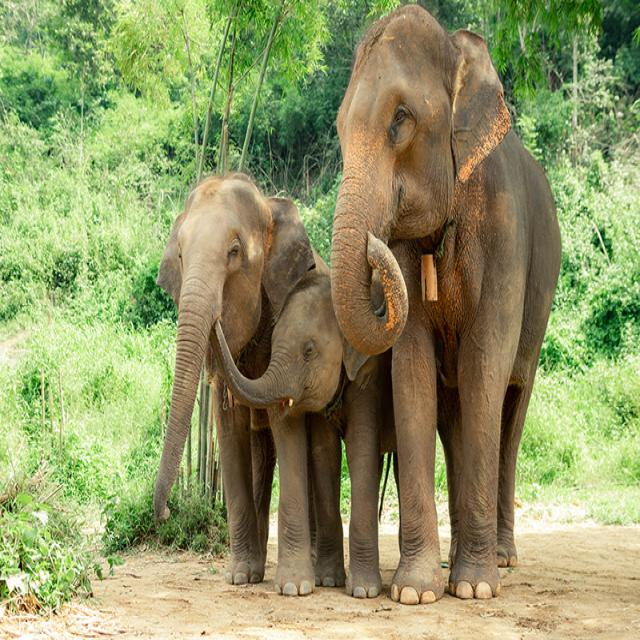Elephant: (332, 0, 551, 618), (114, 132, 299, 599), (213, 199, 373, 623)
